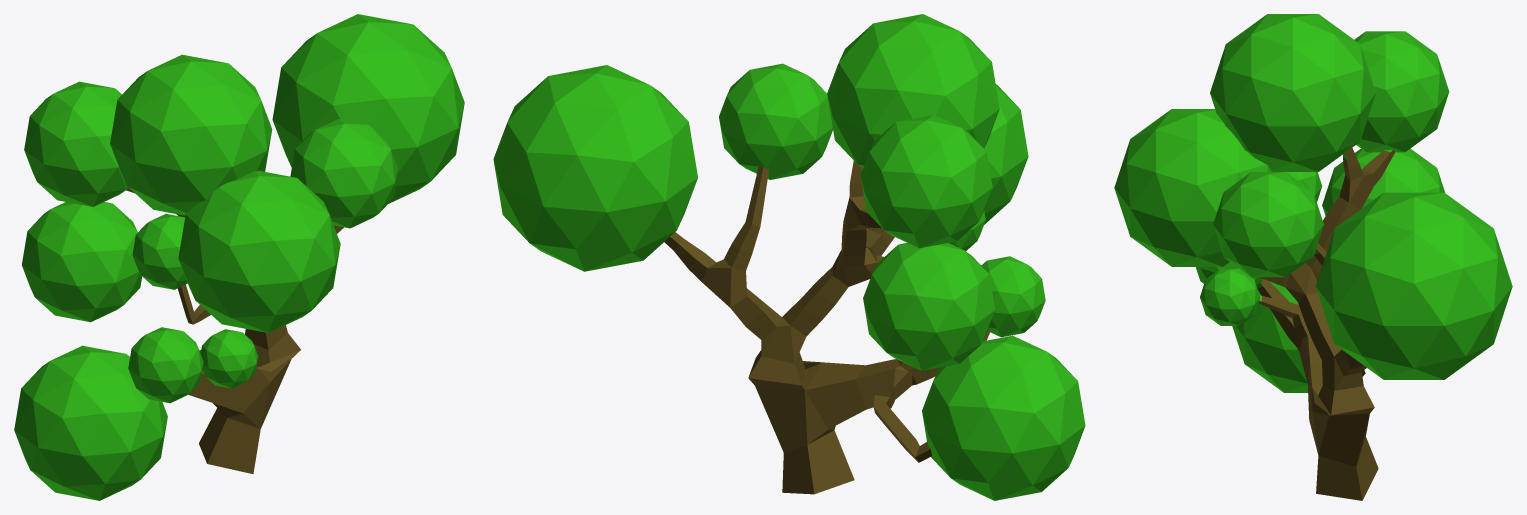
Rendered from regular tree.fbx.
The picture shows the model from 3 angles, left to right: view 1: azimuth 30°, elevation 25°; view 2: azimuth 150°, elevation 25°; view 3: azimuth 270°, elevation 25°; orthographic projection. The views are drawn at different scales.
Parts seen in each view (by area): view 1: Cube; view 2: Cube; view 3: Cube.
Part boxes in pixels (x1=…): Cube: x1=14, y1=14, x2=464, y2=500; Cube: x1=493, y1=14, x2=1085, y2=500; Cube: x1=1114, y1=14, x2=1512, y2=500.
Bounding box in the file's own units: 1426 × 1257 × 1031.
